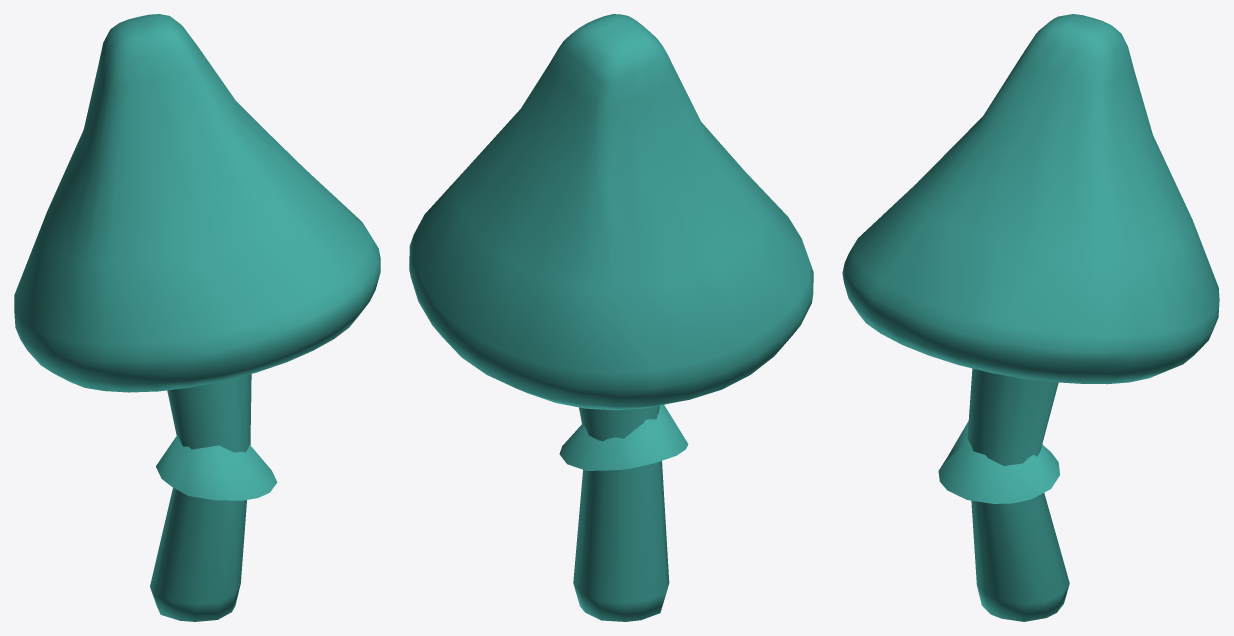
Rendered from shroomBlue-compressed.glb.
3 renders of one model, left to right at view 1: azimuth 30°, elevation 25°; view 2: azimuth 150°, elevation 25°; view 3: azimuth 270°, elevation 25°, orthographic. The views are drawn at different scales.
Visible parts, largest first — view 1: shroomBlue; view 2: shroomBlue; view 3: shroomBlue.
Part boxes in pixels (<box>): shroomBlue: <box>14,14,380,621</box>; shroomBlue: <box>409,14,813,621</box>; shroomBlue: <box>842,14,1219,621</box>.
Bounding box in the file's own units: 0.2955 × 0.5 × 0.2973.
